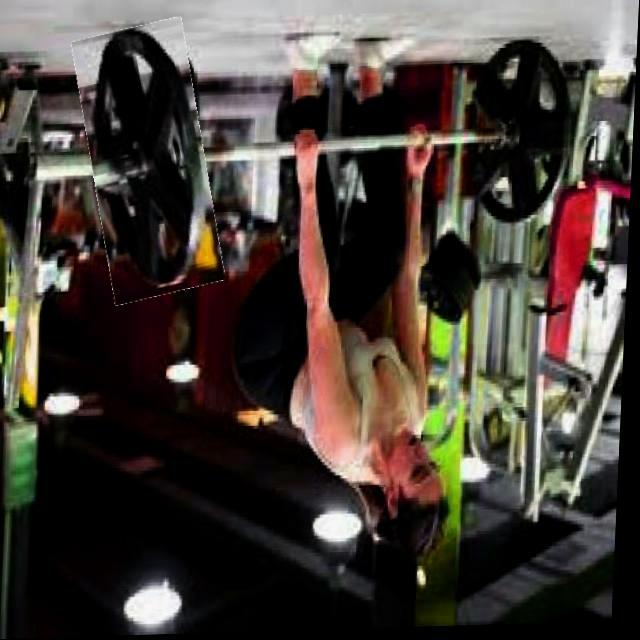barbell: (76, 22, 223, 303)
